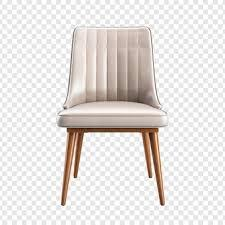chair: (55, 26, 166, 207)
